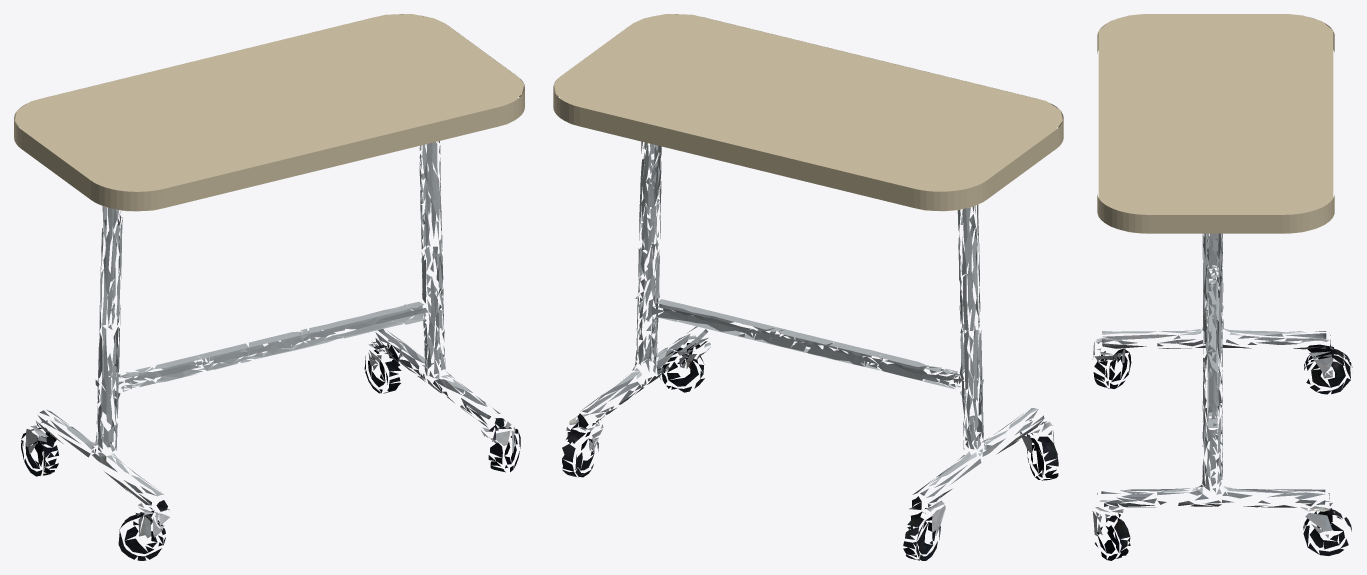
The picture shows the model from 3 angles, left to right: view 1: azimuth 30°, elevation 25°; view 2: azimuth 150°, elevation 25°; view 3: azimuth 270°, elevation 25°; orthographic projection. The views are drawn at different scales.
Visible parts, largest first — view 1: Rounded flat tabletop, geometry_0; view 2: Rounded flat tabletop, geometry_0; view 3: Rounded flat tabletop, geometry_0.
Boxes of the visible parts, <box> form: Rounded flat tabletop: <box>14,14,524,211</box>; geometry_0: <box>21,141,520,560</box>; Rounded flat tabletop: <box>553,14,1063,211</box>; geometry_0: <box>562,141,1058,560</box>; Rounded flat tabletop: <box>1097,14,1334,233</box>; geometry_0: <box>1092,233,1352,560</box>.
Size of the model in its own units: 1.2 by 1 by 0.6571.
Materials: 3 (1 with a texture image).
